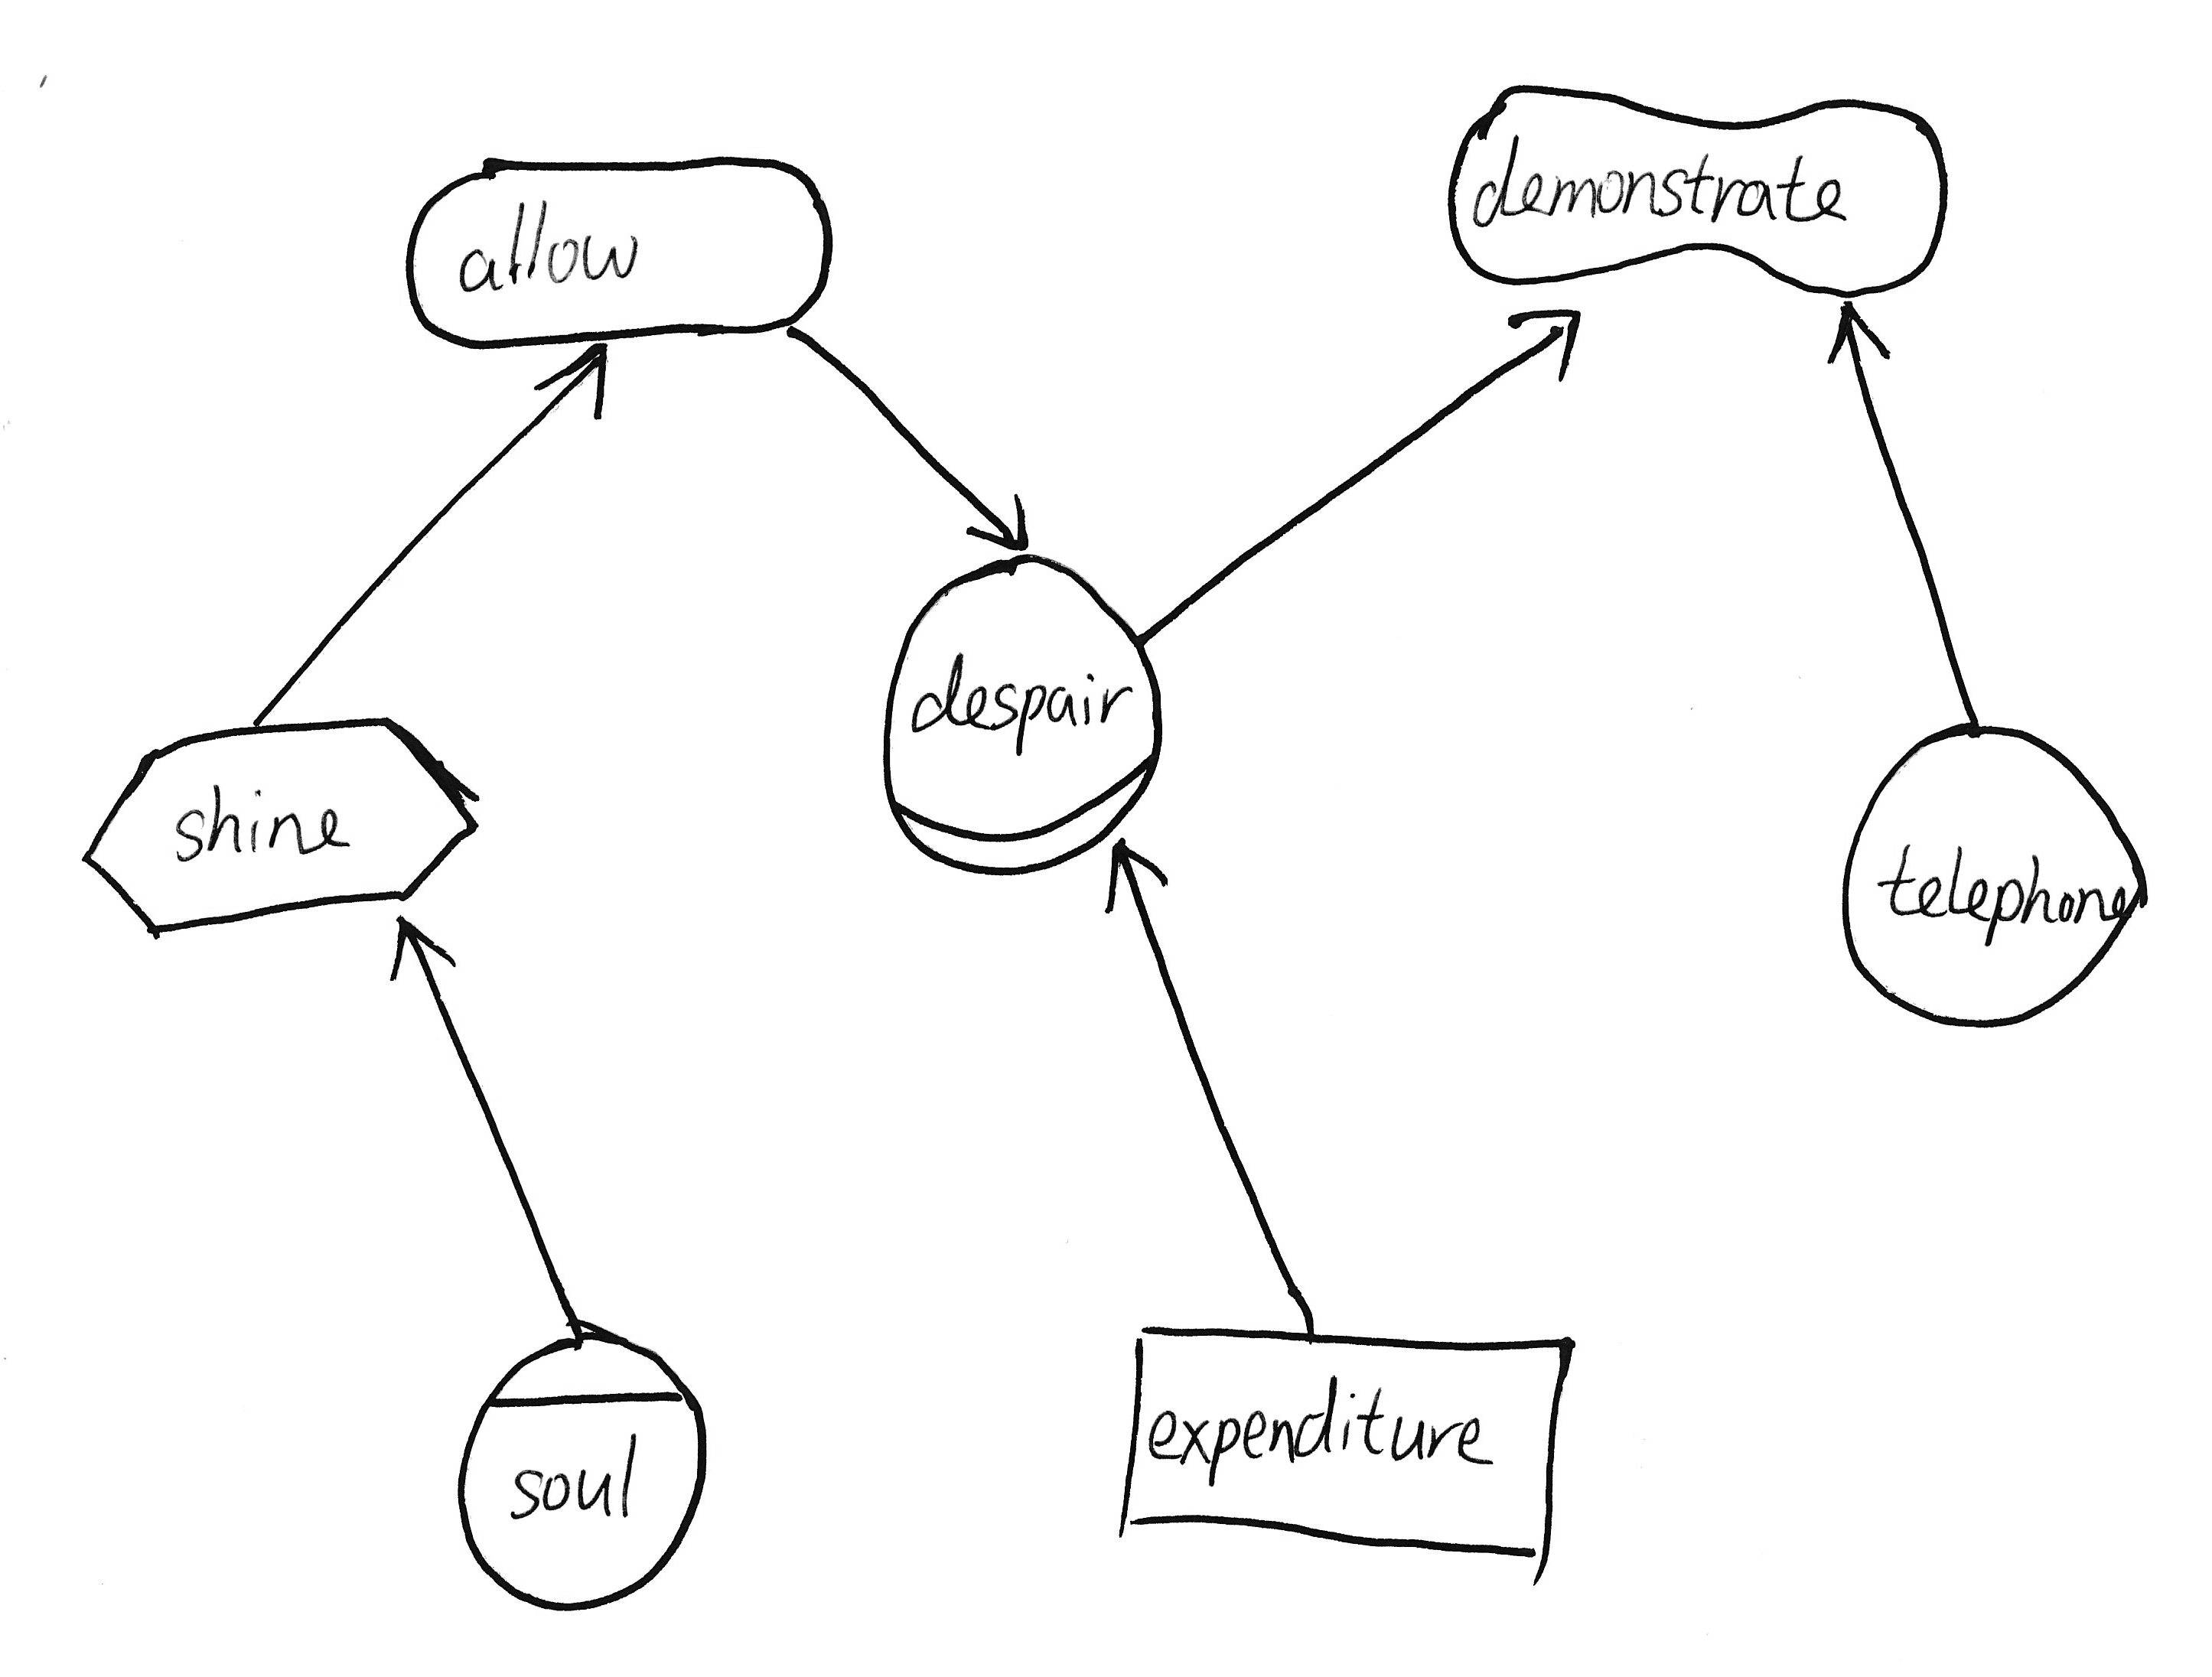actor: (1819, 698, 2168, 1046)
agent: (430, 1305, 733, 1626)
arrow: (1488, 294, 1596, 398), (363, 909, 476, 1004), (530, 336, 625, 439), (1090, 830, 1182, 932), (1807, 291, 1909, 382), (946, 486, 1057, 558)
goal: (393, 134, 858, 358)
quality: (1427, 55, 1964, 314)
resource: (1090, 1298, 1590, 1596)
role: (863, 525, 1175, 893)
task: (62, 703, 495, 949)
